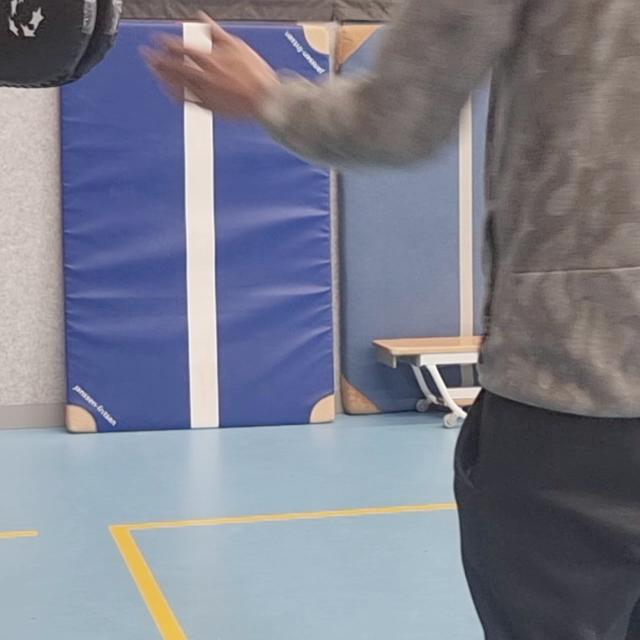paddle: (0, 0, 122, 89)
